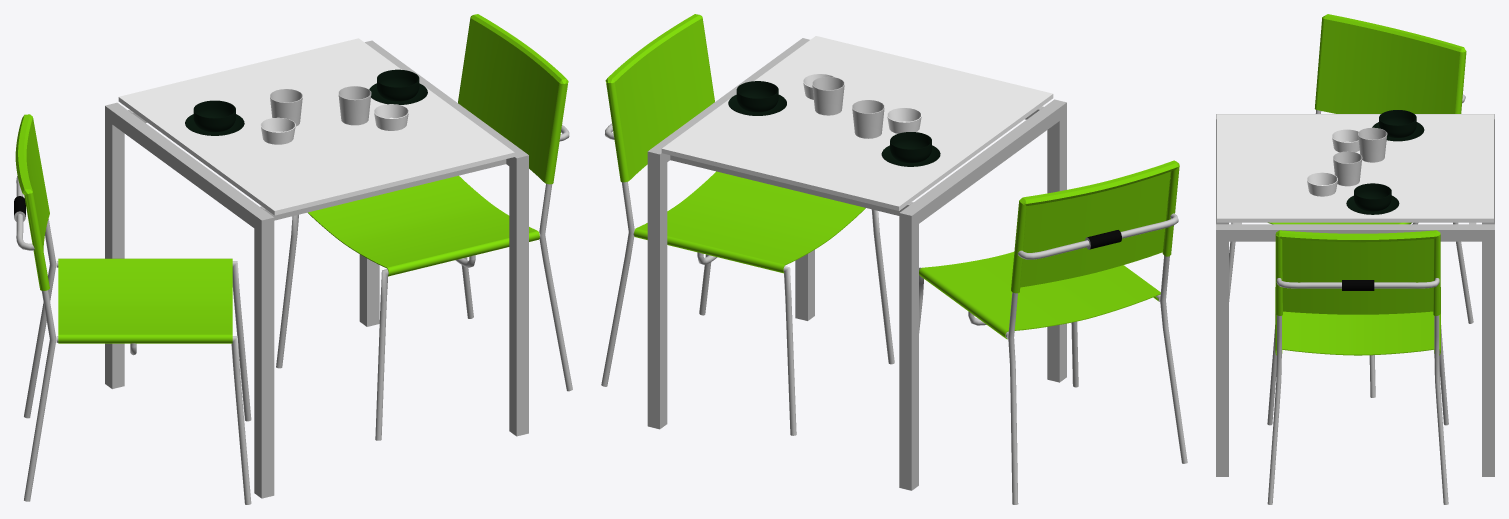
File: IKEA-Morist_Table_And_Chairs-3D.obj
The picture shows the model from 3 angles, left to right: view 1: azimuth 30°, elevation 25°; view 2: azimuth 150°, elevation 25°; view 3: azimuth 270°, elevation 25°; orthographic projection. The views are drawn at different scales.
Parts seen in each view (by area): view 1: Box01, Line02, Line03, Rectangle01, Rectangle04, Cylinder04, Cylinder05, Cylinder06, Cylinder01; view 2: Box01, Line03, Line02, Rectangle01, Rectangle04, Cylinder04, Cylinder05, Cylinder06; view 3: Box01, Line02, Line03, Rectangle01, Cylinder05, Rectangle04, Cylinder04, Cylinder01, Cylinder06, Rectangle02.
Part boxes in pixels (x1,y1,x2,y2): Box01: (105, 38, 528, 498); Line02: (276, 14, 572, 440); Line03: (14, 114, 251, 504); Rectangle01: (377, 69, 419, 101); Rectangle04: (193, 100, 235, 132); Cylinder04: (338, 86, 371, 125); Cylinder05: (270, 89, 302, 126); Cylinder06: (260, 117, 295, 144); Cylinder01: (374, 104, 408, 130); Box01: (647, 36, 1066, 490); Line03: (919, 160, 1187, 504); Line02: (601, 14, 894, 435); Rectangle01: (736, 81, 778, 112); Rectangle04: (890, 132, 931, 163); Cylinder04: (812, 76, 844, 115); Cylinder05: (852, 100, 884, 138); Cylinder06: (887, 108, 921, 133); Box01: (1216, 114, 1494, 476); Line02: (1267, 230, 1448, 504); Line03: (1229, 14, 1473, 397); Rectangle01: (1354, 183, 1391, 211); Cylinder05: (1358, 127, 1387, 162); Rectangle04: (1379, 110, 1416, 137); Cylinder04: (1333, 151, 1362, 186); Cylinder01: (1307, 172, 1337, 196); Cylinder06: (1332, 129, 1359, 152); Rectangle02: (1346, 195, 1399, 214).
Size of the model in its own units: 148 by 84.06 by 75.81.
